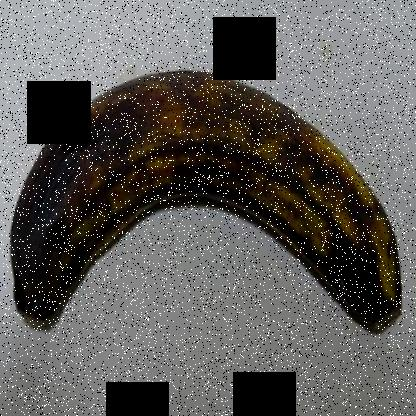overripe: (1, 58, 413, 361)
